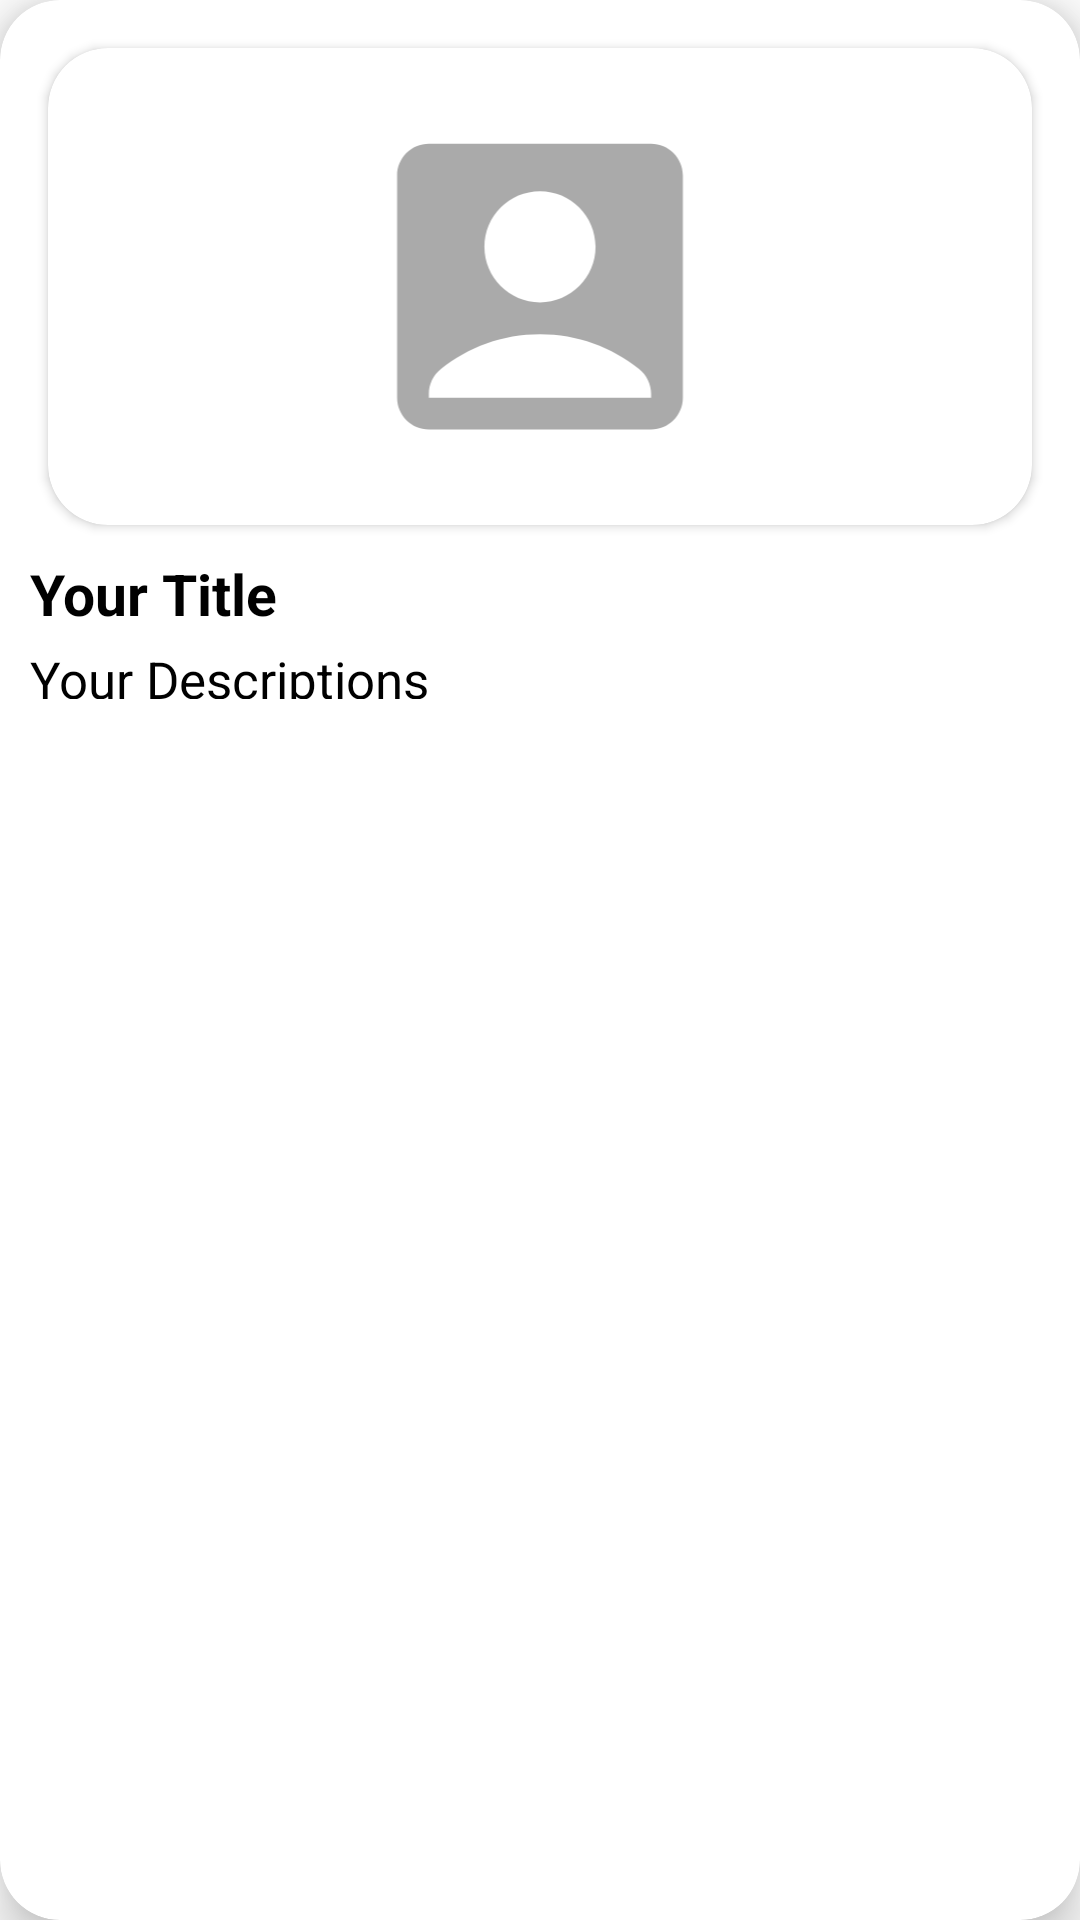

Icons on this 1080 × 1920 Android screen, each with the point to tap as (x=x, y=y):
photo: (x=540, y=287)
